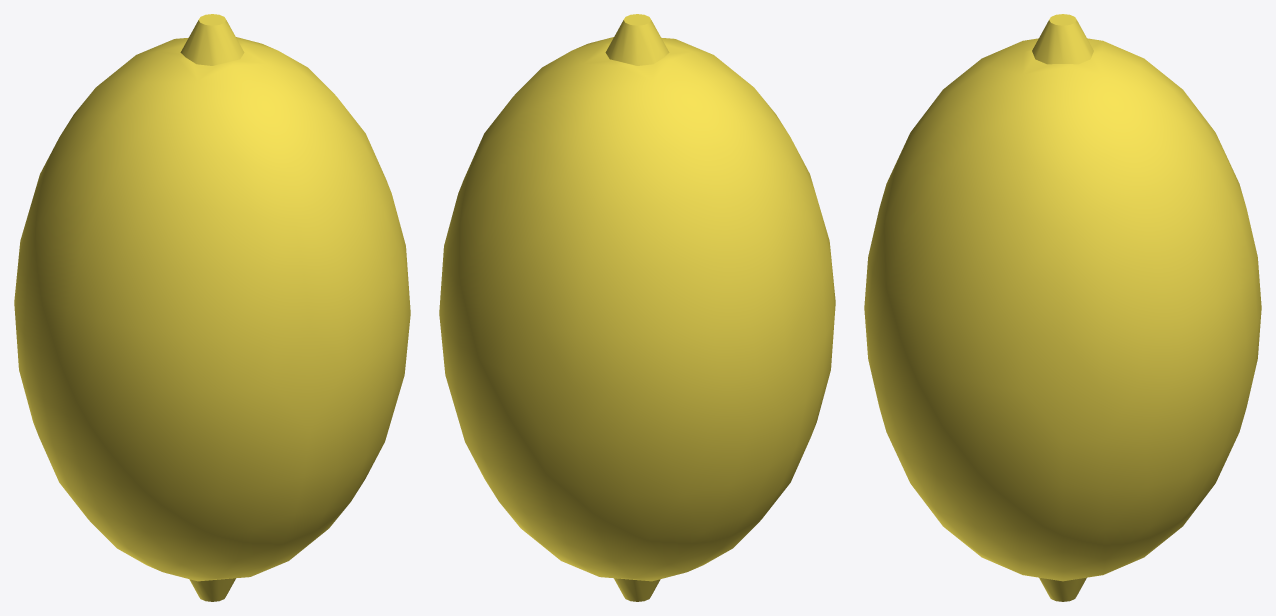
Rendered from lemon.glb.
3 views of the same model, side by side, from view 1: azimuth 30°, elevation 25°; view 2: azimuth 150°, elevation 25°; view 3: azimuth 270°, elevation 25° (orthographic).
Visible parts, largest first — view 1: lemon; view 2: lemon; view 3: lemon.
Part boxes in pixels (x1=…): lemon: x1=14, y1=14, x2=410, y2=601; lemon: x1=439, y1=14, x2=835, y2=601; lemon: x1=864, y1=14, x2=1261, y2=601.
Bounding box in the file's own units: 0.0562 × 0.09 × 0.0562.
